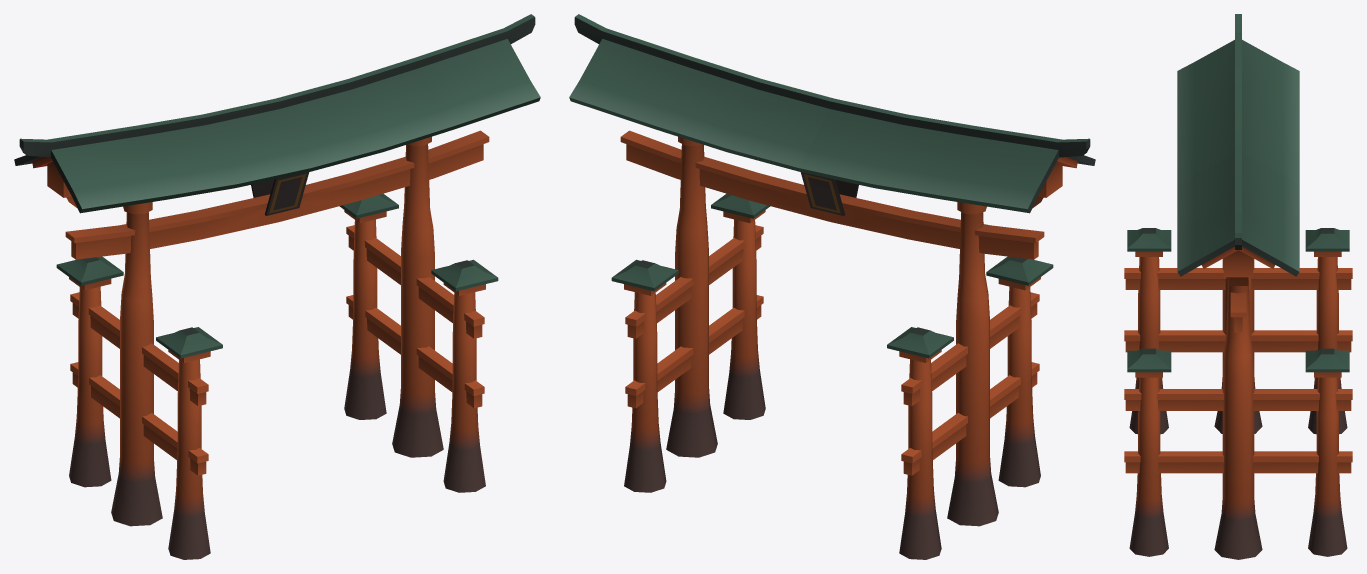
File: Historical_ToriiGate.glb
3 renders of one model, left to right at view 1: azimuth 30°, elevation 25°; view 2: azimuth 150°, elevation 25°; view 3: azimuth 270°, elevation 25°, orthographic. The views are drawn at different scales.
Parts seen in each view (by area): view 1: base.101; view 2: base.101; view 3: base.101.
Boxes of the visible parts, bbox=[...] form: base.101: bbox=[14, 14, 540, 559]; base.101: bbox=[569, 14, 1095, 559]; base.101: bbox=[1124, 14, 1352, 559].
Size of the model in its own units: 28.87 by 21.74 by 12.42.
